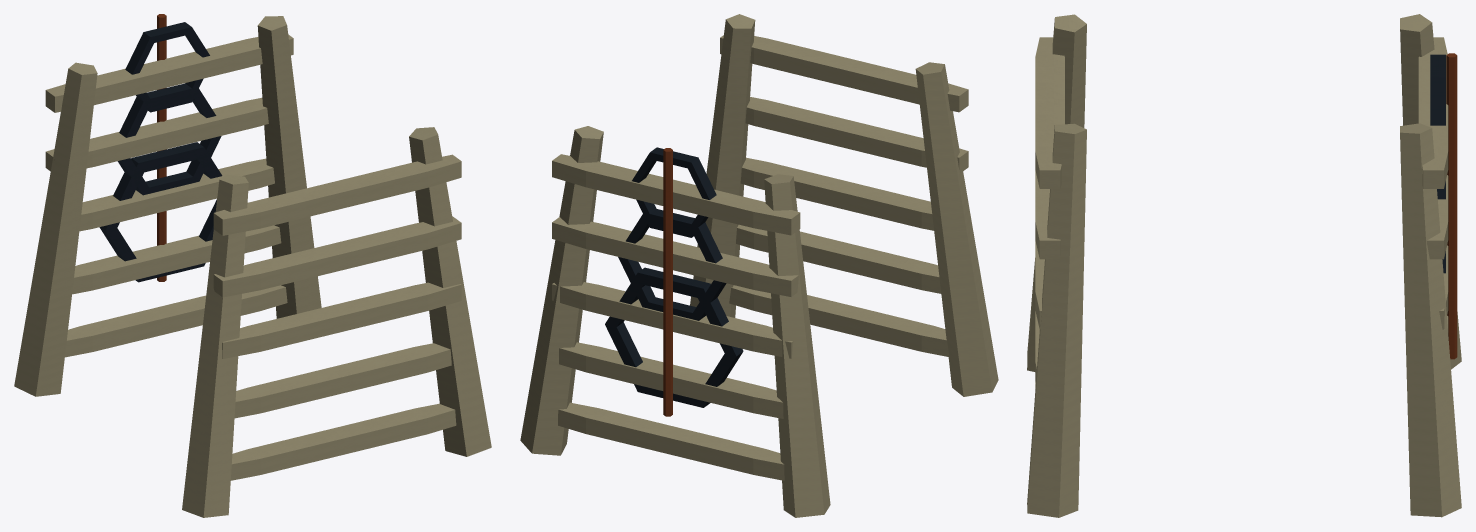
File: crown-faceted-antenna-1.glb
3 renders of one model, left to right at view 1: azimuth 30°, elevation 25°; view 2: azimuth 150°, elevation 25°; view 3: azimuth 270°, elevation 25°, orthographic. The views are drawn at different scales.
Parts seen in each view (by area): view 1: crown-faceted-antenna_LOD1; view 2: crown-faceted-antenna_LOD1; view 3: crown-faceted-antenna_LOD1.
Boxes of the visible parts, <box> form: crown-faceted-antenna_LOD1: <box>14,14,491,517</box>; crown-faceted-antenna_LOD1: <box>520,14,998,517</box>; crown-faceted-antenna_LOD1: <box>1027,14,1461,517</box>.
Bounding box in the file's own units: 0.8771 × 0.9281 × 0.9522.
3 materials, 3 textured.
